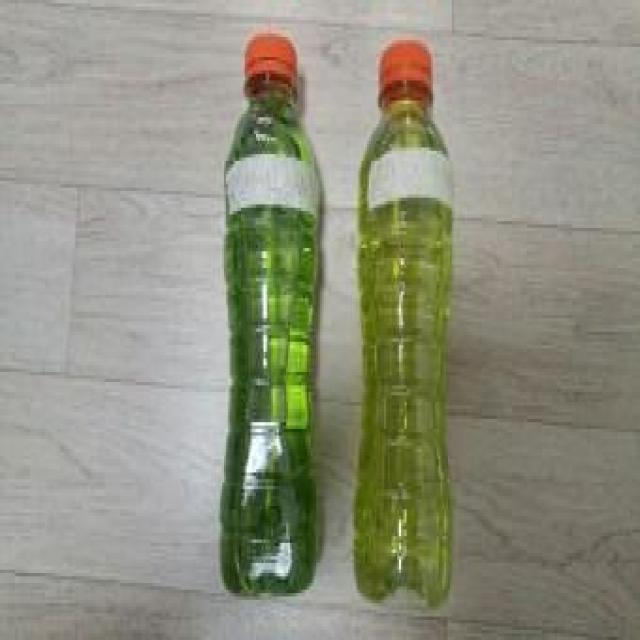bottle: (216, 30, 324, 597), (356, 40, 460, 603)
